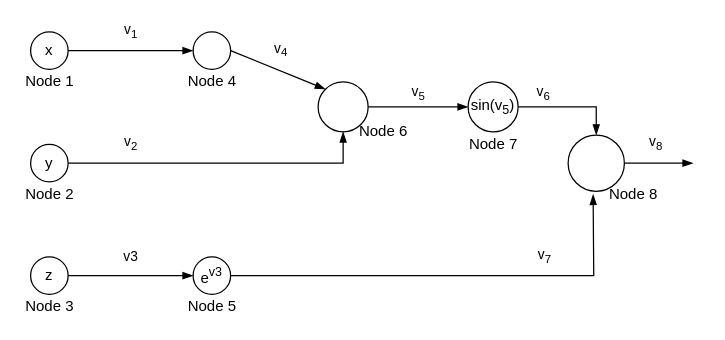
Image size: 725x340. Some labels were removed from this diagram. The box of each missing label's shape, as (x1, y1, x2, y2) in pixels:
v 1 2: (192, 31, 231, 69)
v 2* v 4: (317, 81, 368, 132)
v 6 +v 7: (567, 134, 624, 191)
